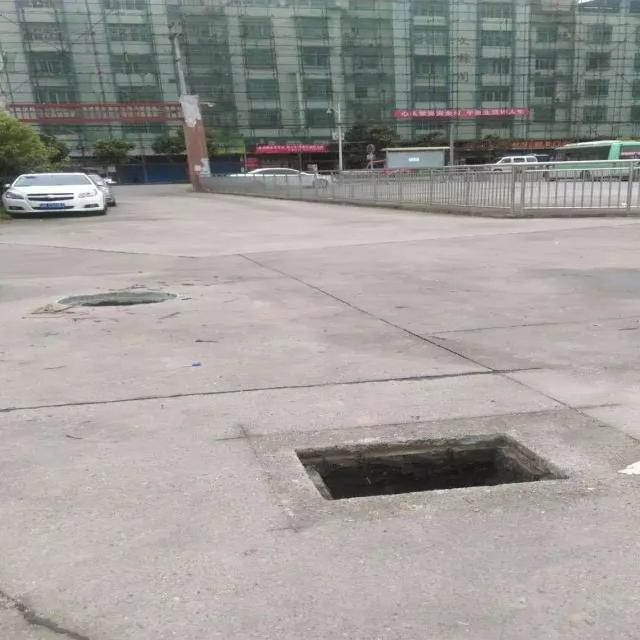Pothole: (280, 432, 576, 508), (48, 286, 226, 322)
